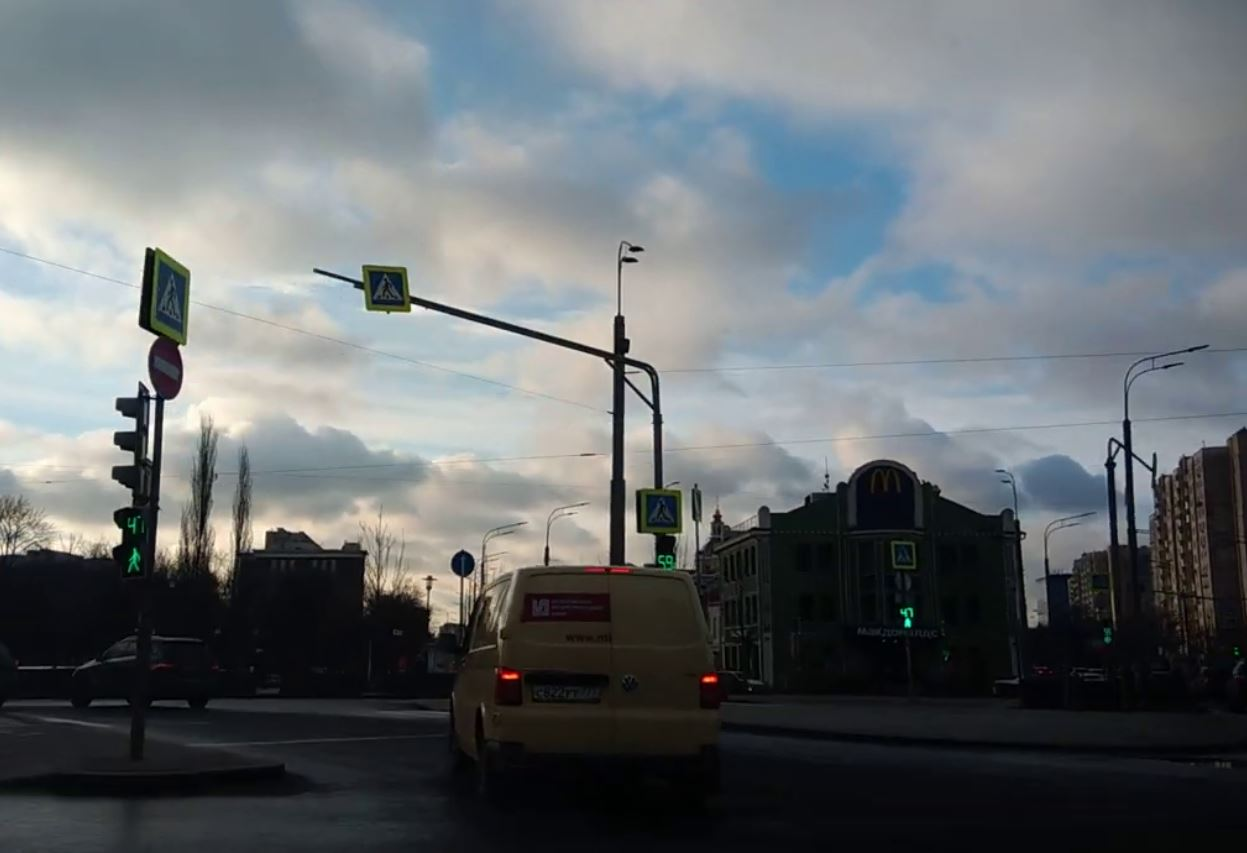Yaya Gecidi: (156, 266, 192, 332), (368, 270, 407, 307), (647, 492, 683, 532)
